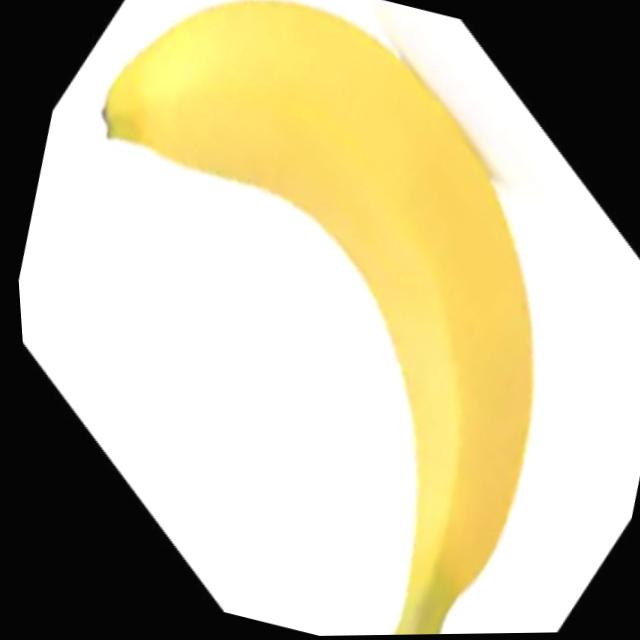Banana: (0, 0, 628, 640)
